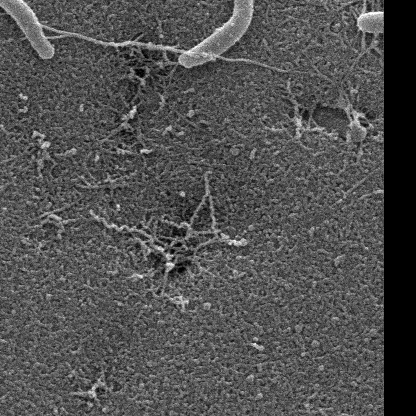cell2cell: (41, 24, 235, 63)
curved: (178, 1, 250, 69)
regular: (4, 1, 55, 63), (359, 13, 384, 31)
